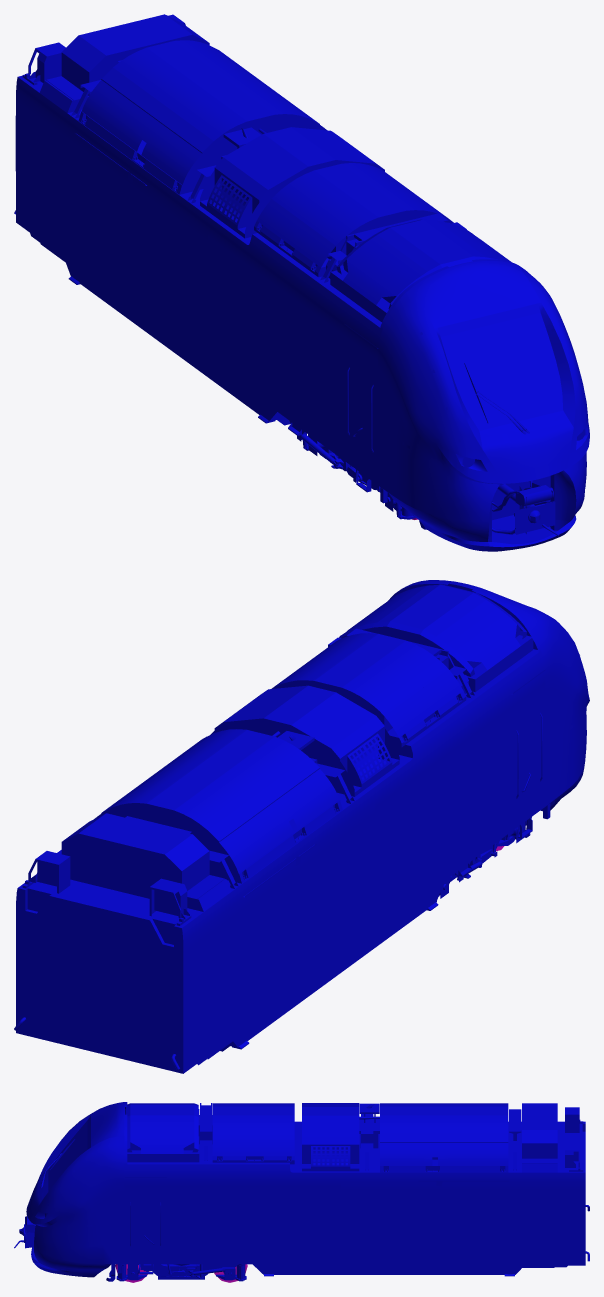
3 renders of one model, top to bottom at view 1: azimuth 30°, elevation 25°; view 2: azimuth 150°, elevation 25°; view 3: azimuth 270°, elevation 25°, orthographic. The views are drawn at different scales.
Parts seen in each view (by area): view 1: omneo 8.006Regio 2N STIF 8-car; view 2: omneo 8.006Regio 2N STIF 8-car; view 3: omneo 8.006Regio 2N STIF 8-car.
Part boxes in pixels (<box>): omneo 8.006Regio 2N STIF 8-car: <box>14,14,589,551</box>; omneo 8.006Regio 2N STIF 8-car: <box>14,580,589,1073</box>; omneo 8.006Regio 2N STIF 8-car: <box>14,1102,589,1282</box>.
Bounding box in the file's own units: 3.18 × 4.36 × 14.27.
